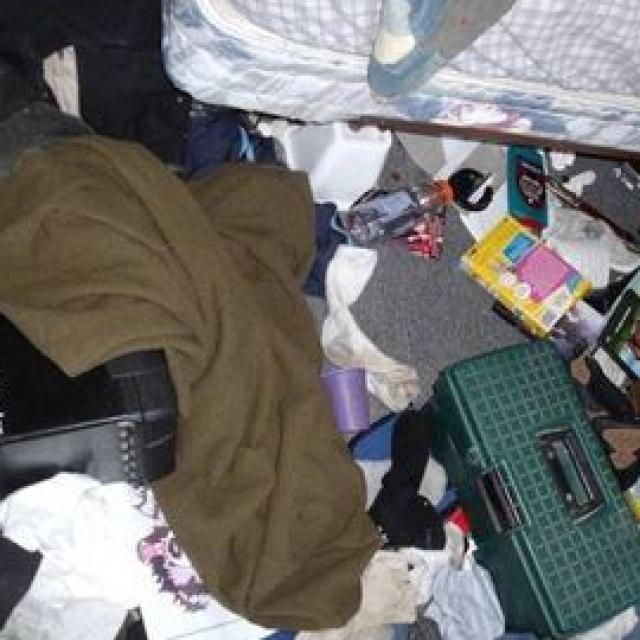mess: (0, 83, 346, 640), (374, 137, 640, 639)
